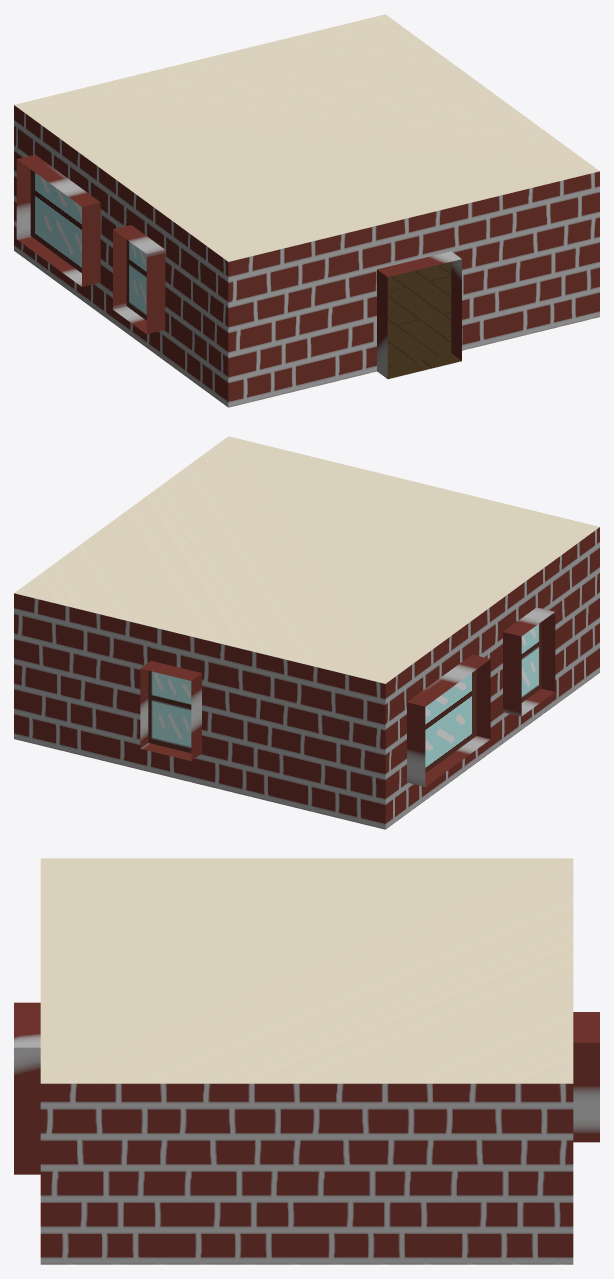
Rendered from Apartment 1.fbx.
The picture shows the model from 3 angles, top to bottom: view 1: azimuth 30°, elevation 25°; view 2: azimuth 150°, elevation 25°; view 3: azimuth 270°, elevation 25°; orthographic projection. The views are drawn at different scales.
Visible parts, largest first — view 1: ceiling, wallsOuter, floor, windows; view 2: wallsOuter, ceiling, windows; view 3: ceiling, wallsOuter.
Part boxes in pixels (x1=…): ceiling: x1=14, y1=14, x2=599, y2=261; wallsOuter: x1=14, y1=105, x2=599, y2=407; floor: x1=387, y1=262, x2=461, y2=378; windows: x1=30, y1=169, x2=146, y2=320; wallsOuter: x1=14, y1=527, x2=599, y2=829; ceiling: x1=14, y1=436, x2=599, y2=683; windows: x1=148, y1=622, x2=541, y2=772; ceiling: x1=40, y1=858, x2=573, y2=1083; wallsOuter: x1=14, y1=1002, x2=599, y2=1264.
Size of the model in its own units: 420 by 150 by 440.
